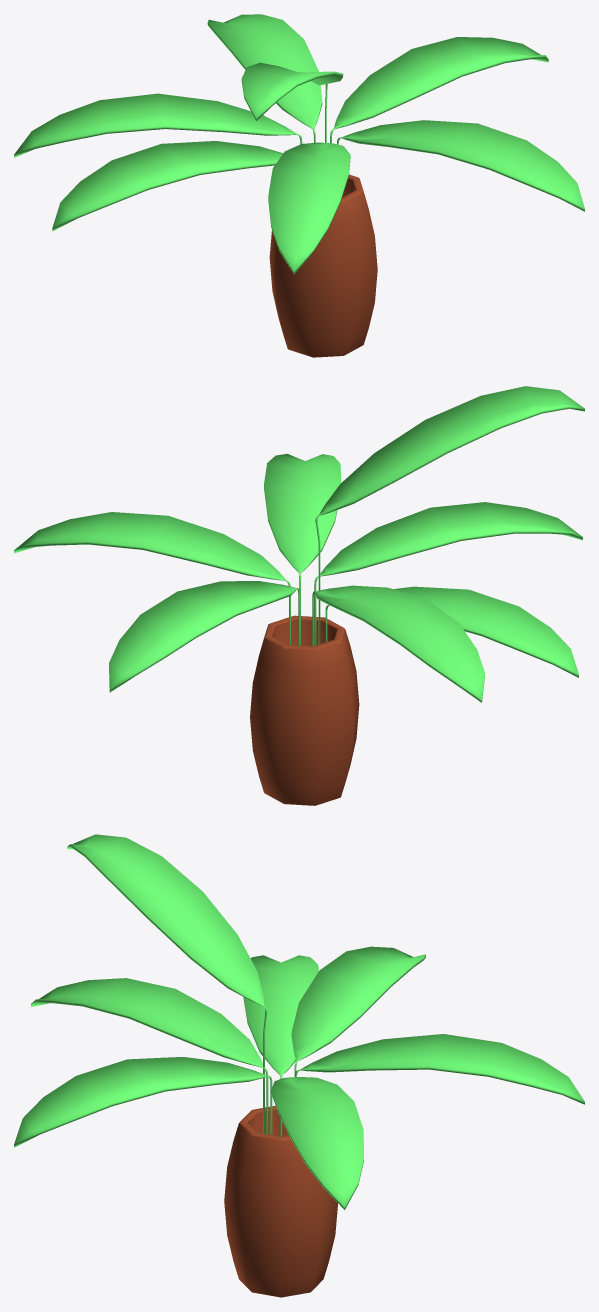
File: Planta.fbx
3 renders of one model, top to bottom at view 1: azimuth 30°, elevation 25°; view 2: azimuth 150°, elevation 25°; view 3: azimuth 270°, elevation 25°, orthographic.
Parts seen in each view (by area): view 1: Planta; view 2: Planta; view 3: Planta.
Part boxes in pixels (x1,y1,x2,y2): Planta: (14, 14, 584, 357); Planta: (14, 386, 584, 805); Planta: (14, 834, 584, 1297).
Bounding box in the file's own units: 390 × 253 × 358.
